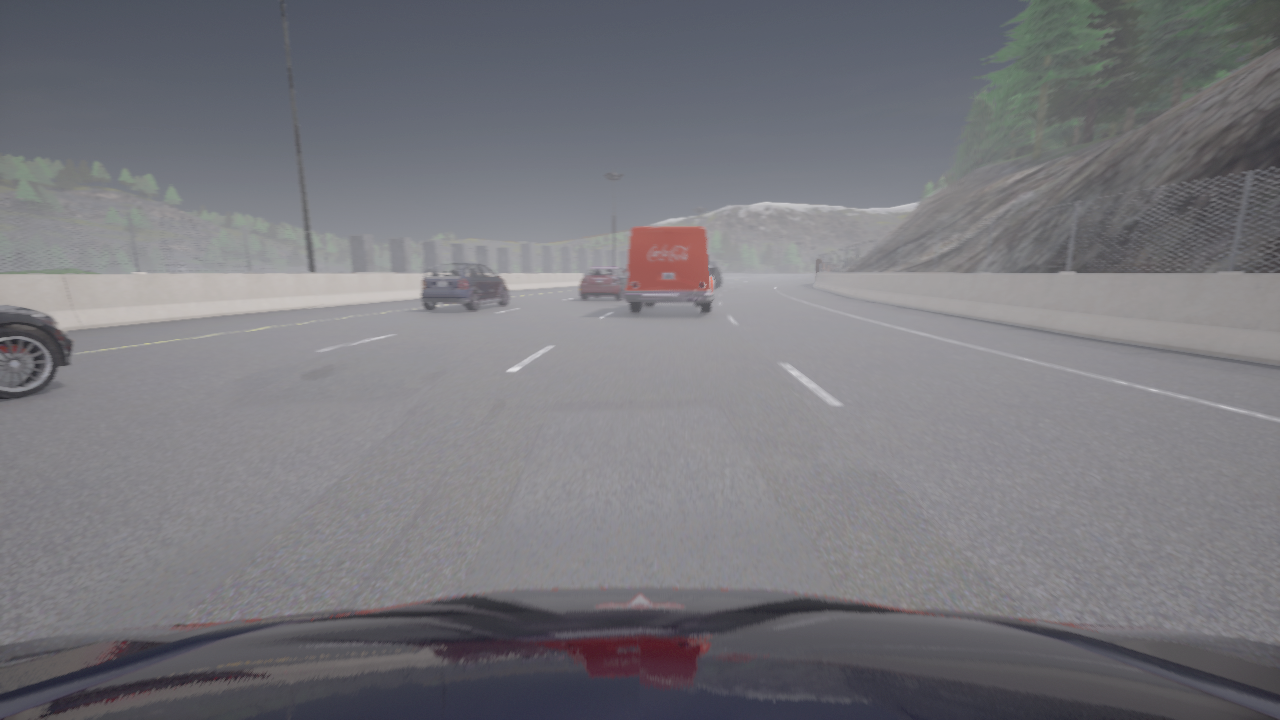cyclist: (0, 588, 1279, 719), (625, 227, 714, 313), (420, 263, 508, 311), (580, 267, 627, 300), (709, 261, 722, 289)
